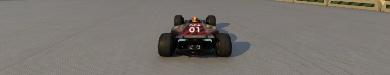Car: (157, 14, 232, 57)
curve: (0, 0, 389, 74)
obstacles-Borders: (269, 0, 389, 12)
